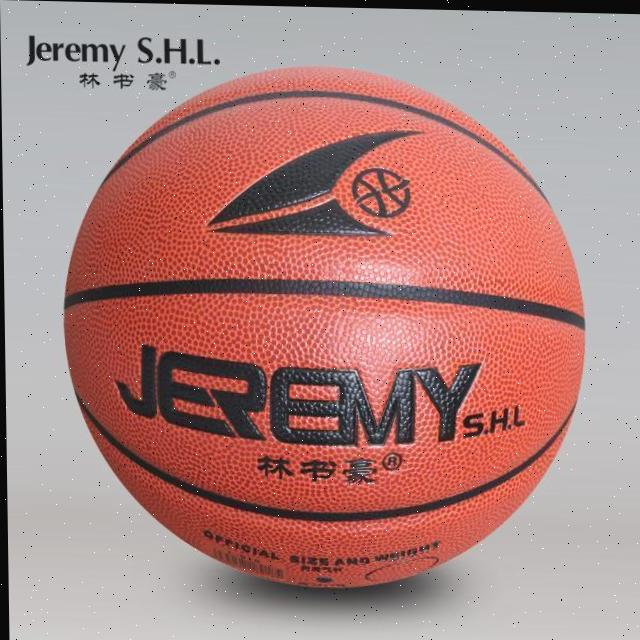Basketball: (45, 59, 592, 599)
